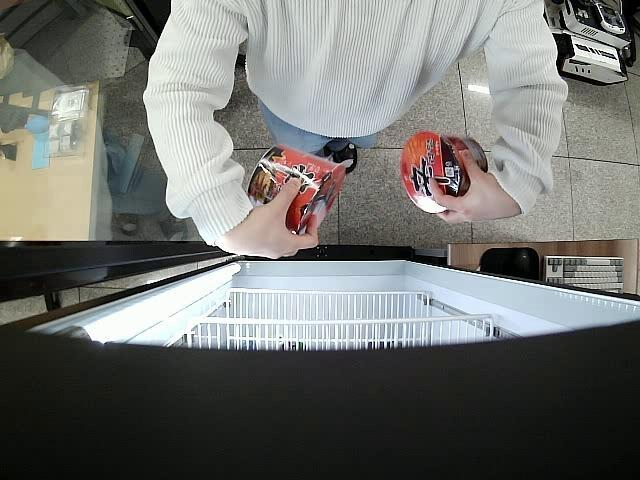01_ShinRamen_L: (242, 139, 343, 235), (400, 134, 486, 212)
